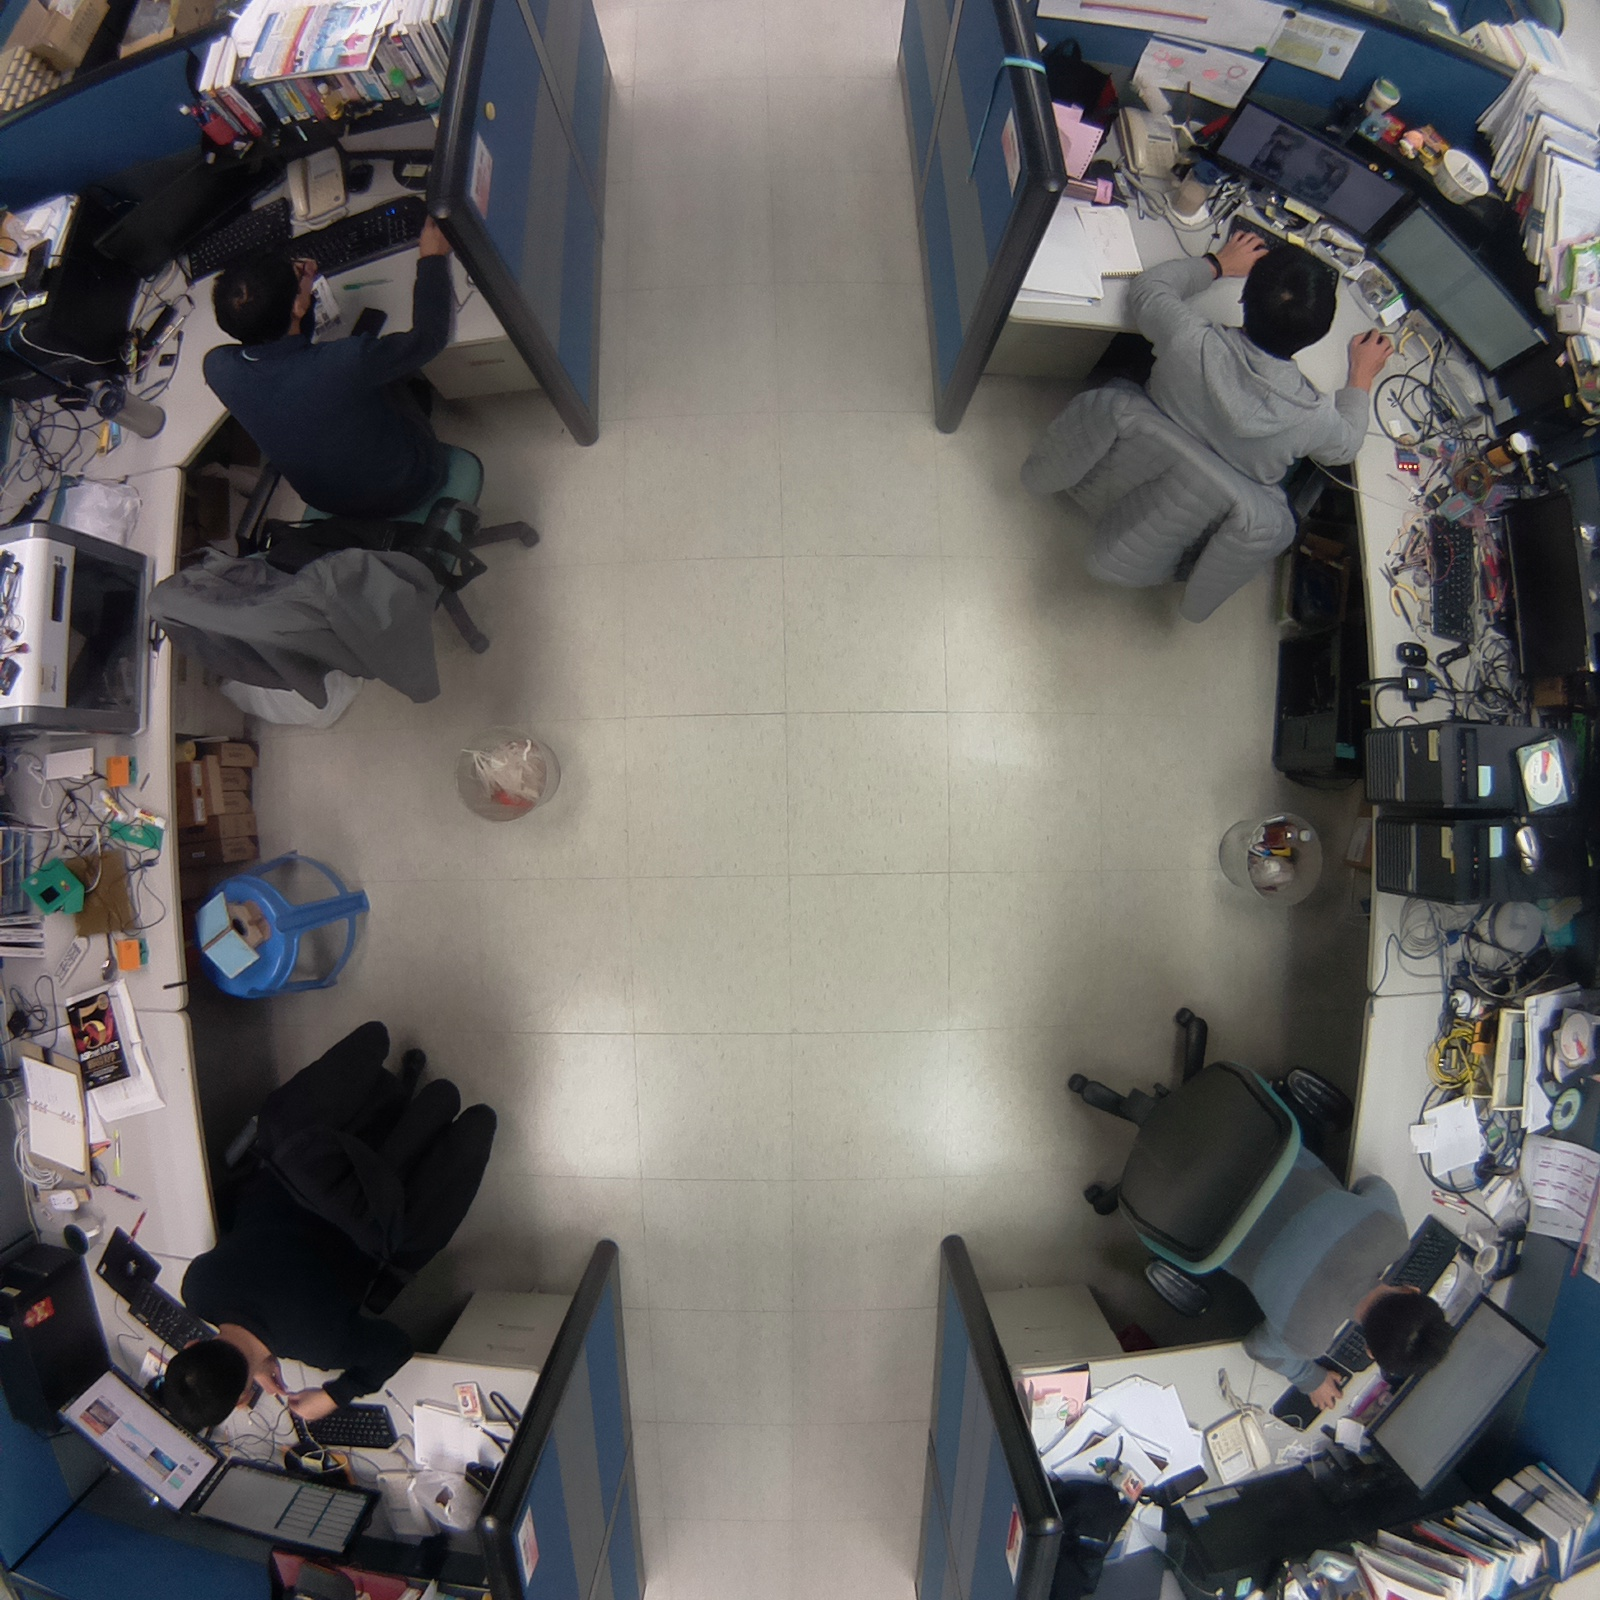head: (1234, 246, 1344, 363), (1346, 1274, 1457, 1385), (151, 1334, 259, 1434), (206, 253, 317, 351)
sitting: (124, 216, 558, 724), (1035, 975, 1463, 1425), (1001, 214, 1399, 640), (150, 999, 532, 1435)
